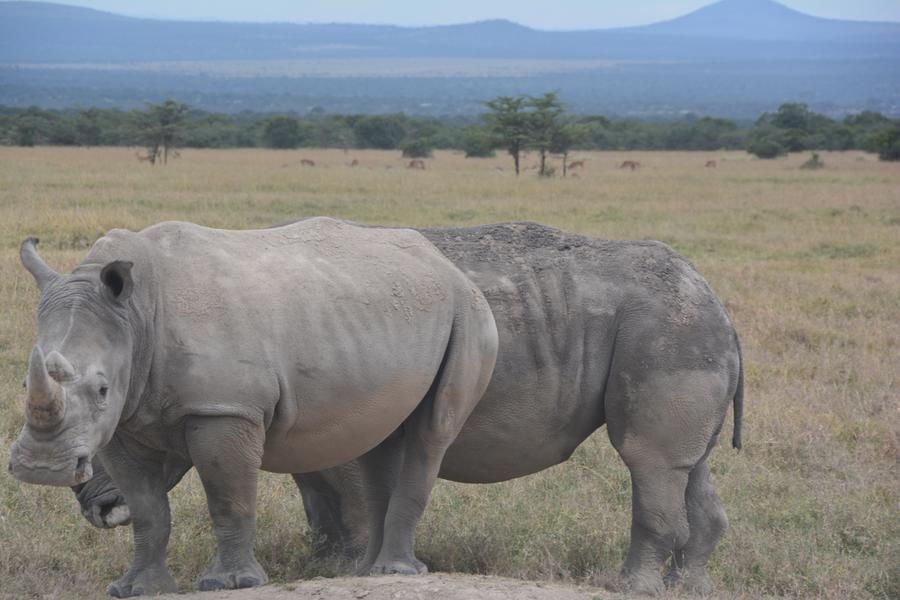rhino: (42, 233, 467, 508), (480, 241, 753, 497)
